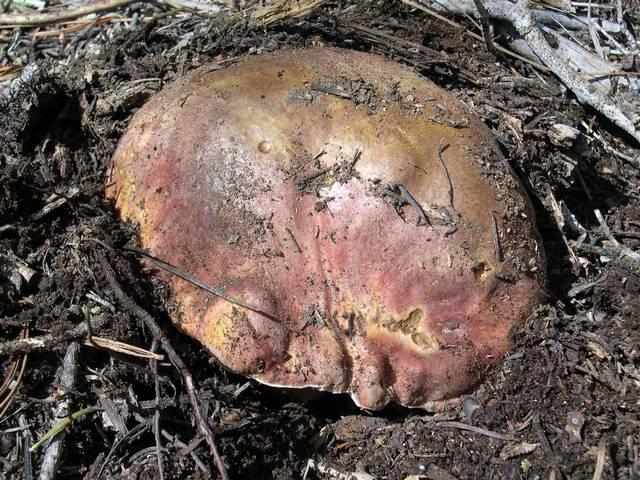Edible Mushroom: (102, 44, 551, 414)
